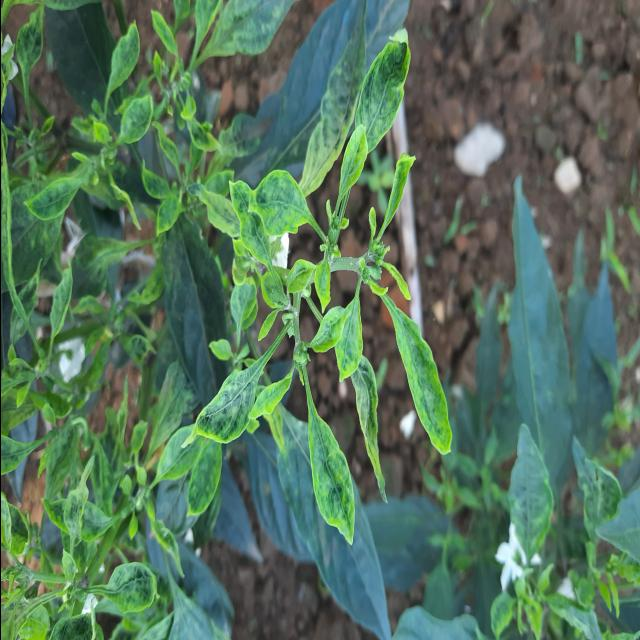thrips: (388, 294, 454, 468), (350, 31, 420, 162), (296, 400, 358, 546), (190, 350, 268, 458), (244, 161, 311, 243), (332, 301, 366, 387)
